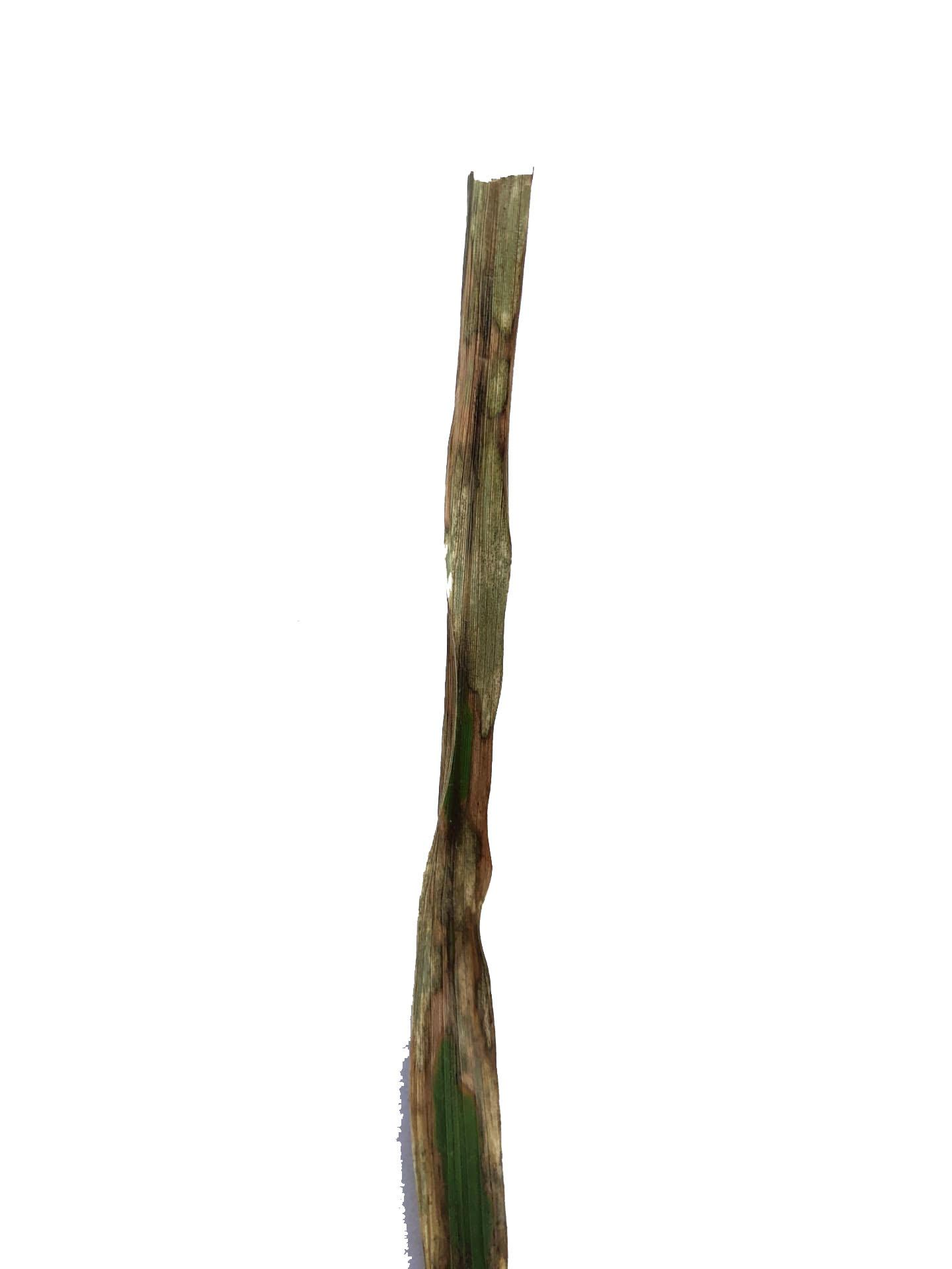Blight: (400, 198, 552, 1262)
